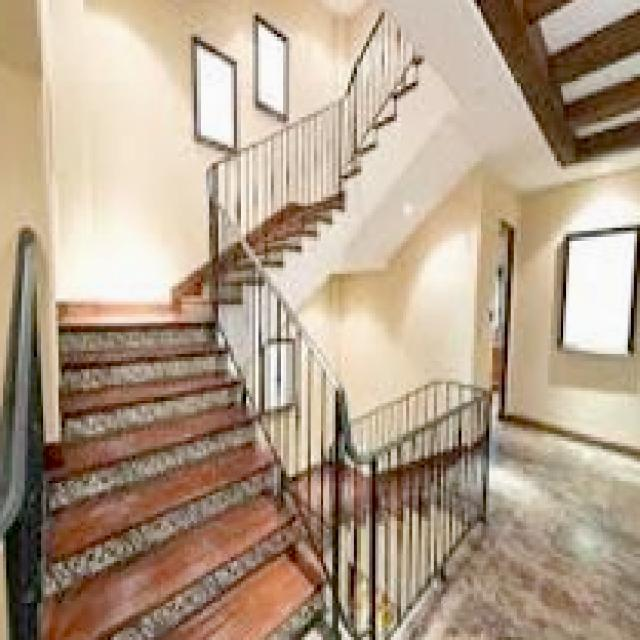upstair: (41, 398, 324, 640)
